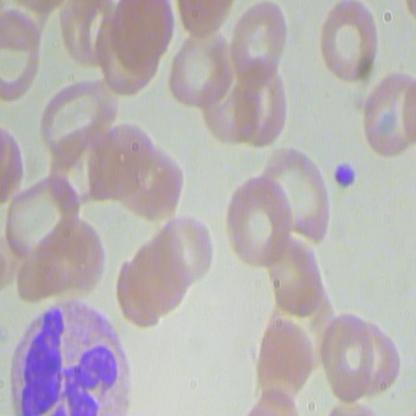Platelets: (331, 158, 361, 193)
RBC: (36, 67, 118, 166), (262, 143, 333, 247), (226, 172, 296, 272), (249, 306, 319, 406), (3, 172, 83, 259), (165, 24, 239, 112), (312, 2, 383, 81), (265, 229, 328, 318), (226, 1, 294, 83), (321, 309, 376, 404), (357, 70, 411, 165)
WBC: (1, 288, 146, 415)
